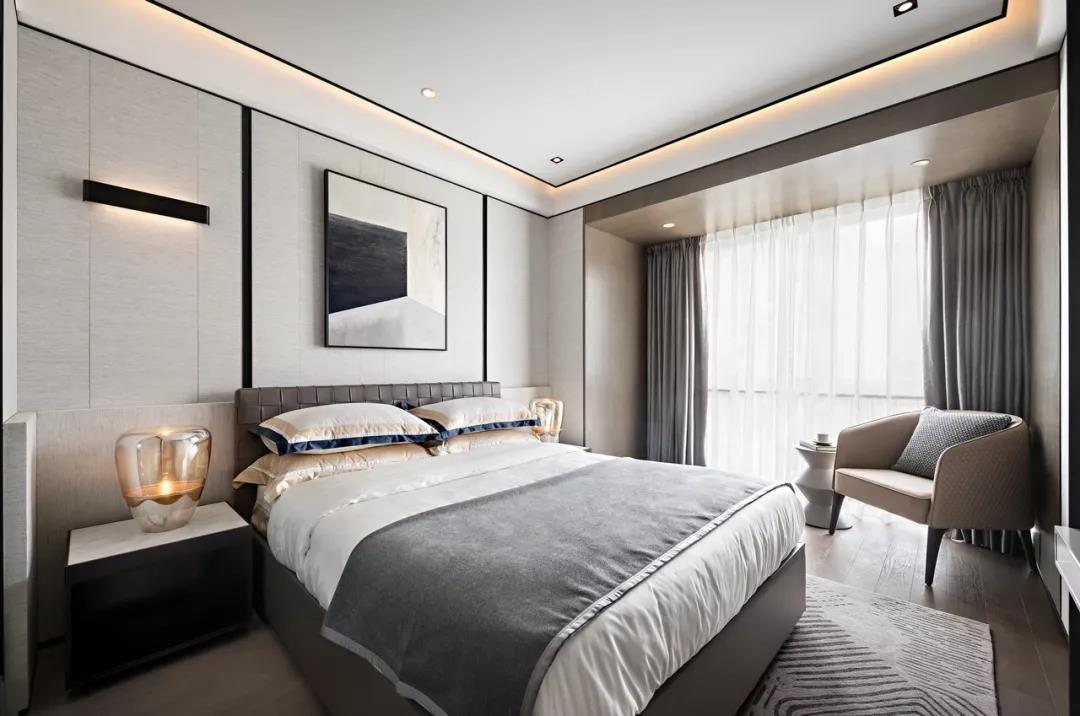bed: (236, 382, 808, 716)
chair: (829, 406, 1031, 588)
curtain: (924, 167, 1029, 414), (640, 240, 710, 467)
frame: (324, 167, 448, 352)
lamp: (110, 425, 215, 533)
night stand: (68, 501, 255, 696)
